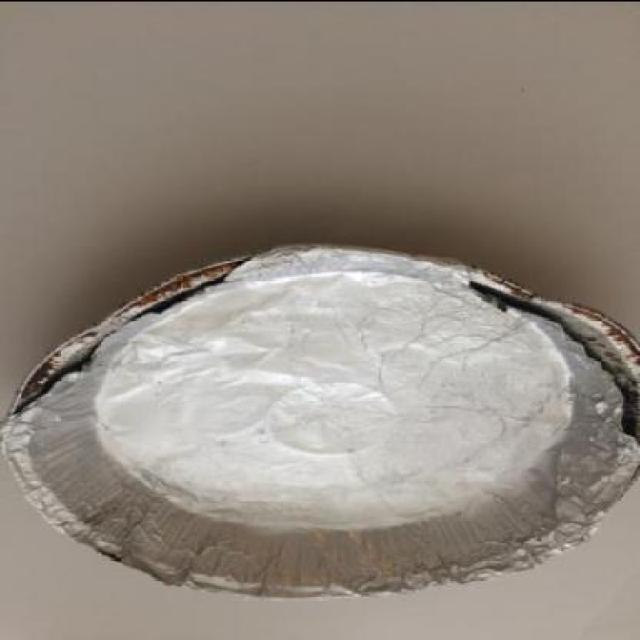metal: (0, 244, 638, 600)
